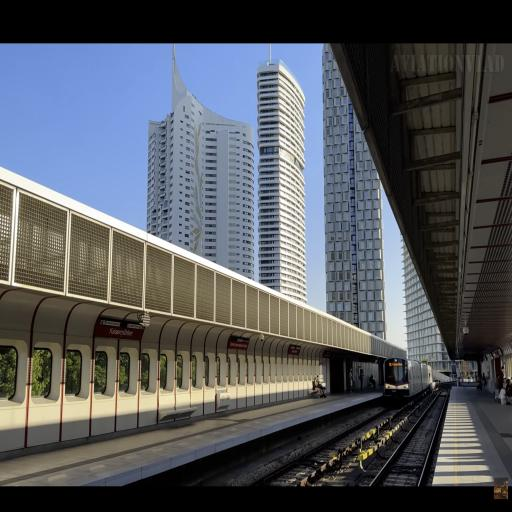V-Wagen: (382, 354, 432, 401)
